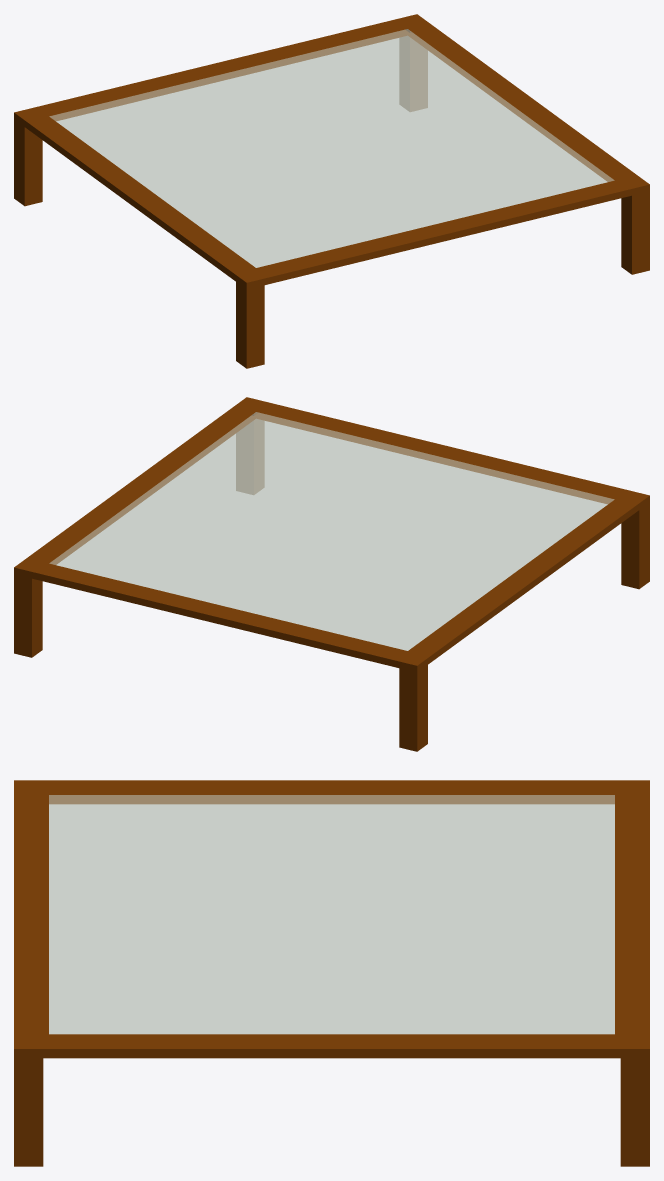
Rendered from coffee-table-hospital.fbx.
3 renders of one model, top to bottom at view 1: azimuth 30°, elevation 25°; view 2: azimuth 150°, elevation 25°; view 3: azimuth 270°, elevation 25°, orthographic. The views are drawn at different scales.
Parts seen in each view (by area): view 1: coffee-table-hospital; view 2: coffee-table-hospital; view 3: coffee-table-hospital.
Part boxes in pixels (bbox=[...]): coffee-table-hospital: bbox=[14, 14, 649, 368]; coffee-table-hospital: bbox=[14, 397, 649, 751]; coffee-table-hospital: bbox=[14, 780, 649, 1166].
Size of the model in its own units: 326 by 66.38 by 326.
